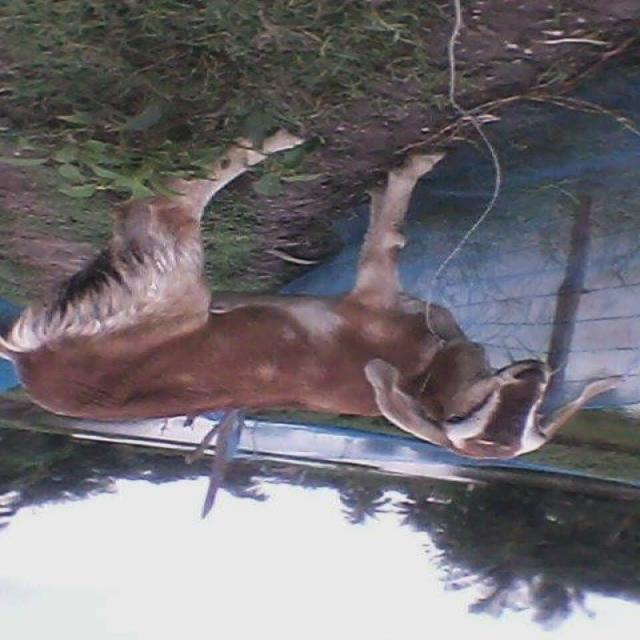Goat: (3, 127, 625, 463)
